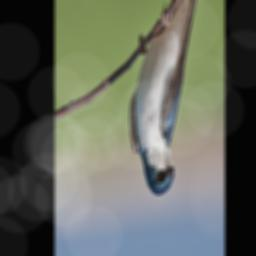Swallow: (129, 0, 207, 199)
